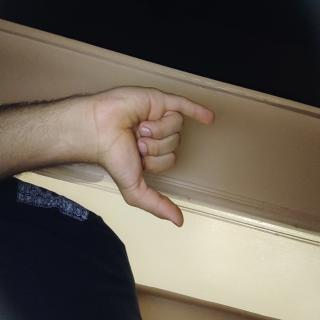YA: (57, 132, 172, 306)
